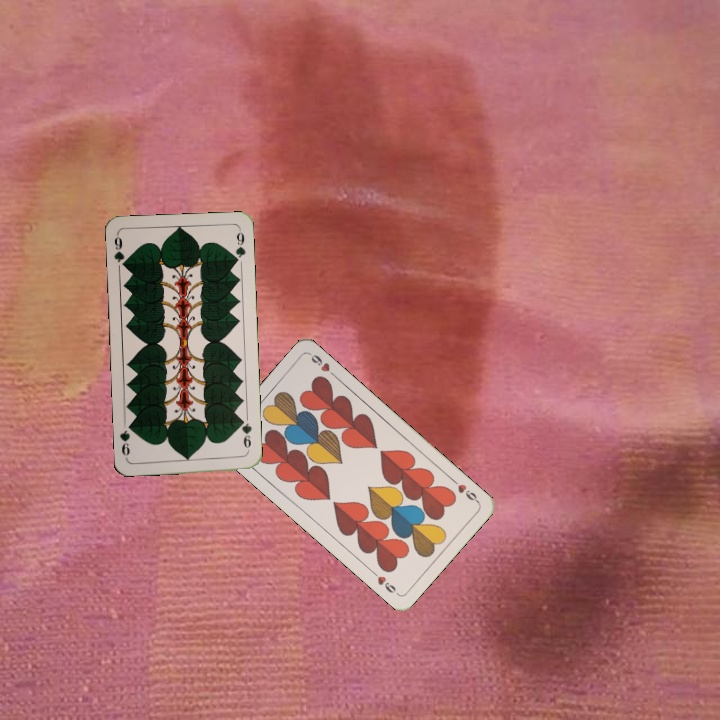G9: (110, 231, 129, 271), (237, 415, 254, 455)
H9: (448, 475, 481, 505)
